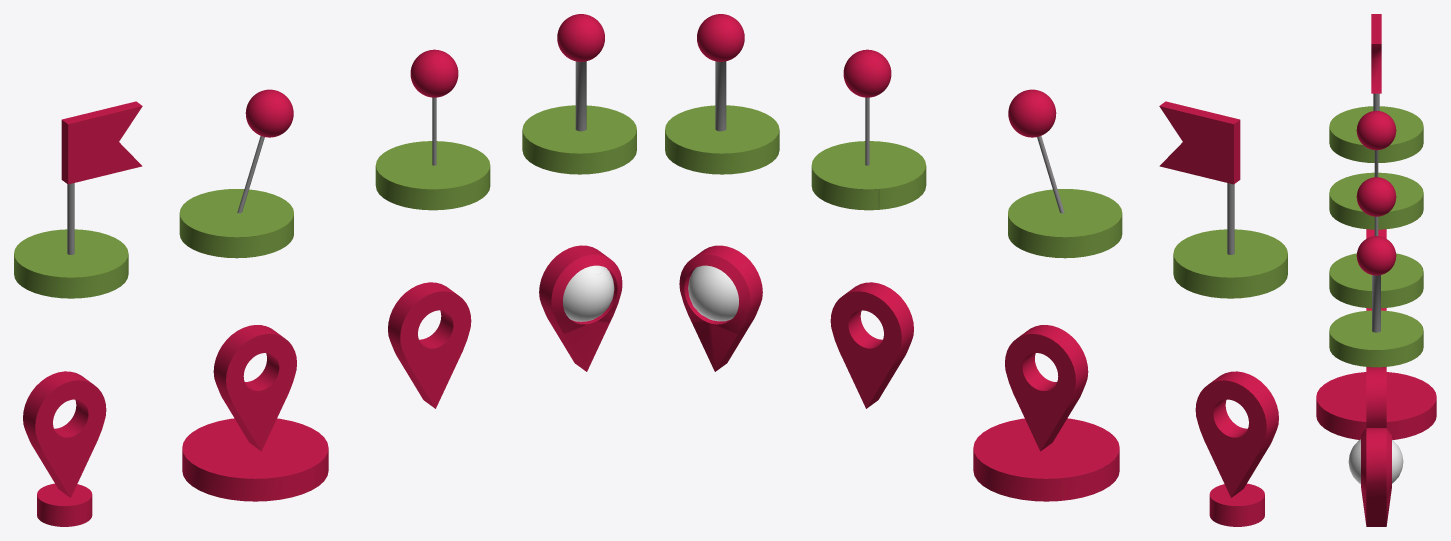
Rendered from 3d_icon_pins.glb.
3 renders of one model, left to right at view 1: azimuth 30°, elevation 25°; view 2: azimuth 150°, elevation 25°; view 3: azimuth 270°, elevation 25°, orthographic. The views are drawn at different scales.
Visible parts, largest first — view 1: pin_5, pin_flag, pin_3, pin_1, pin_2, pin_4, pin_7, pin_6; view 2: pin_5, pin_flag, pin_3, pin_1, pin_2, pin_4, pin_7, pin_6; view 3: pin_3, pin_5, pin_2, pin_1, pin_flag, pin_7, pin_6.
Part boxes in pixels (left/top/right/bottom): pin_5: left=182, top=325, right=328, bottom=501; pin_flag: left=14, top=101, right=142, bottom=298; pin_3: left=522, top=14, right=636, bottom=174; pin_1: left=179, top=89, right=293, bottom=258; pin_2: left=375, top=49, right=490, bottom=210; pin_4: left=23, top=371, right=106, bottom=526; pin_7: left=539, top=245, right=622, bottom=371; pin_6: left=388, top=282, right=471, bottom=408; pin_5: left=973, top=325, right=1119, bottom=501; pin_flag: left=1159, top=101, right=1287, bottom=298; pin_3: left=665, top=14, right=779, bottom=174; pin_1: left=1008, top=89, right=1122, bottom=258; pin_2: left=811, top=49, right=926, bottom=210; pin_4: left=1195, top=371, right=1278, bottom=526; pin_7: left=679, top=245, right=762, bottom=371; pin_6: left=830, top=282, right=913, bottom=408; pin_3: left=1329, top=236, right=1423, bottom=367; pin_5: left=1316, top=308, right=1436, bottom=439; pin_2: left=1329, top=177, right=1423, bottom=308; pin_1: left=1329, top=110, right=1423, bottom=229; pin_flag: left=1329, top=14, right=1423, bottom=162; pin_7: left=1348, top=428, right=1403, bottom=526; pin_6: left=1366, top=367, right=1386, bottom=427.
Bounding box in the file's own units: 95.83 × 59.56 × 20.
Materials: 8 (8 with a texture image).
